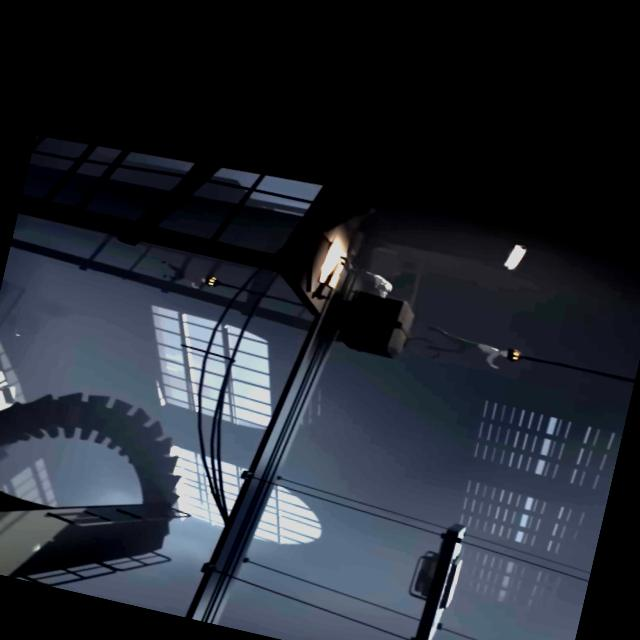boy: (155, 260, 206, 290)
